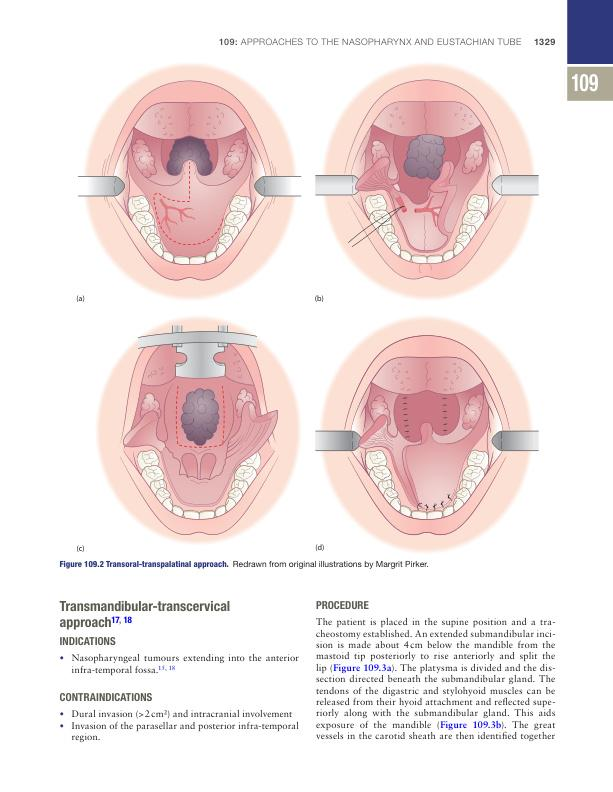caption: (58, 559, 429, 570), (74, 293, 87, 304), (314, 542, 326, 553), (75, 543, 86, 553), (314, 294, 325, 304)
header: (217, 37, 523, 47)
image: (308, 51, 547, 307), (70, 52, 304, 307), (309, 309, 548, 557), (70, 311, 305, 556)
list: (59, 708, 300, 744), (58, 652, 300, 677)
sub-section-heading: (57, 598, 233, 631), (58, 692, 153, 702), (58, 635, 118, 647), (314, 599, 370, 610)
text: (315, 616, 556, 743)
